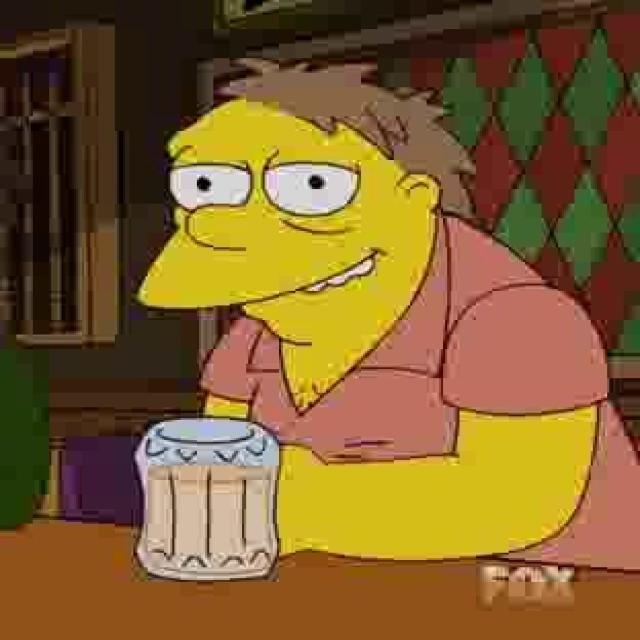Barney Gumble: (131, 52, 484, 359)
